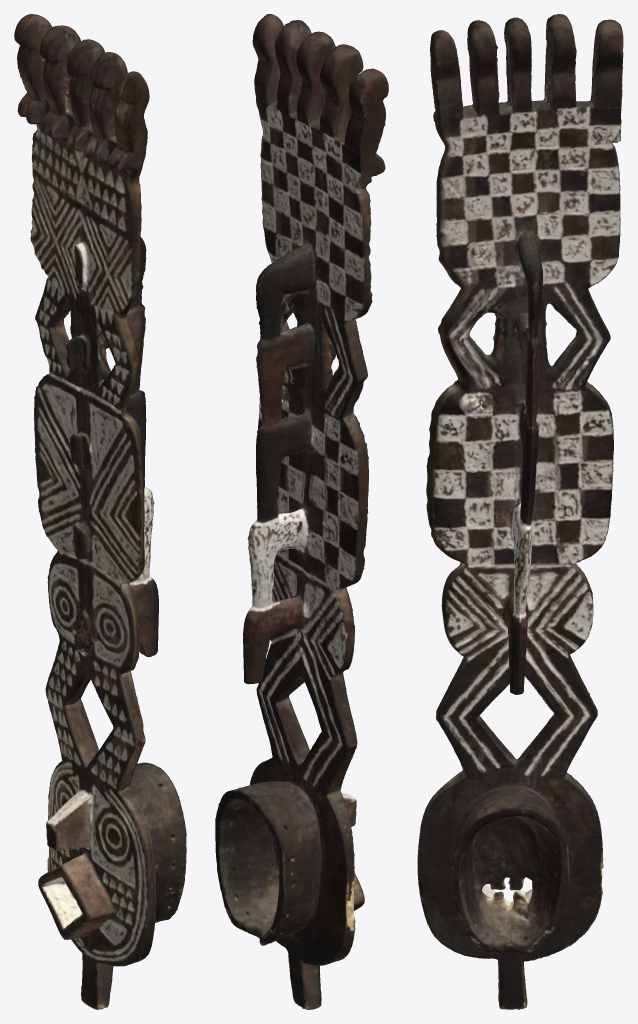
File: preview.glb
3 renders of one model, left to right at view 1: azimuth 30°, elevation 25°; view 2: azimuth 210°, elevation 25°; view 3: azimuth 270°, elevation 25°, orthographic.
Visible parts, largest first — view 1: Object_2; view 2: Object_2; view 3: Object_2.
Boxes of the visible parts, x1=… form: Object_2: x1=14, y1=14, x2=186, y2=1009; Object_2: x1=215, y1=14, x2=388, y2=1009; Object_2: x1=417, y1=14, x2=623, y2=1009.
Bounding box in the file's own units: 197 × 1587 × 301.
1 material, 1 textured.
